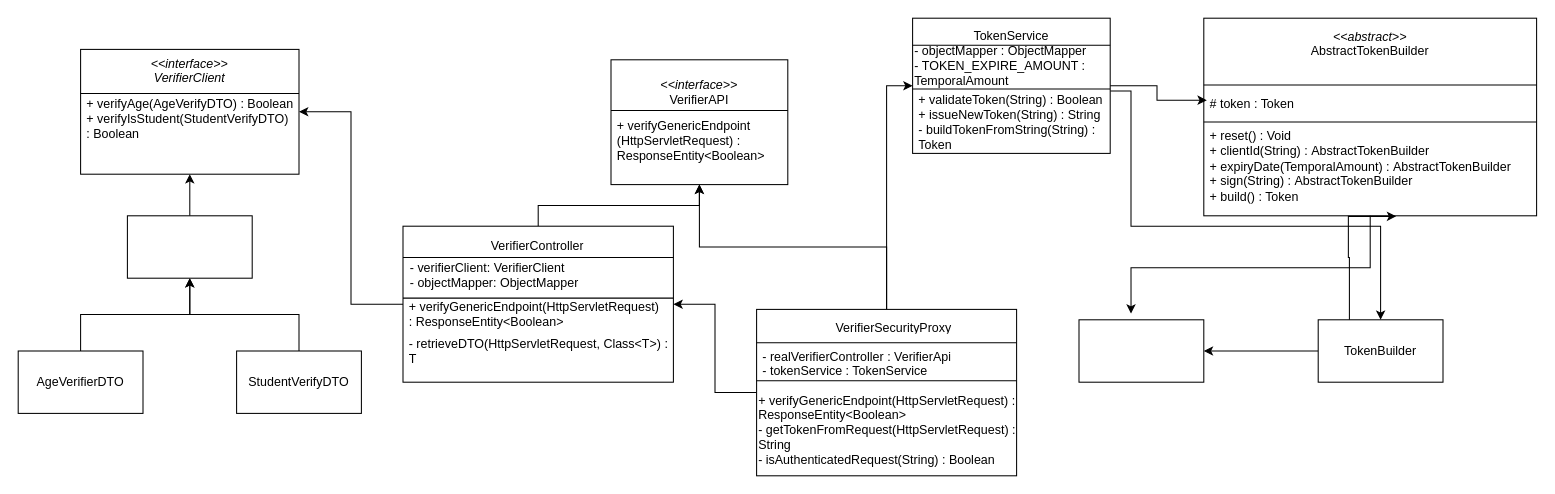
The diagram is 1555 pixels wide and 494 high, and some of its shapes have lost their labels. Here are the shapes that lost their labels. From the top down, the box of each, then its label:
(126, 215, 252, 278): VerifierClientImpl (provided by feign library)
(1078, 319, 1204, 382): Token
